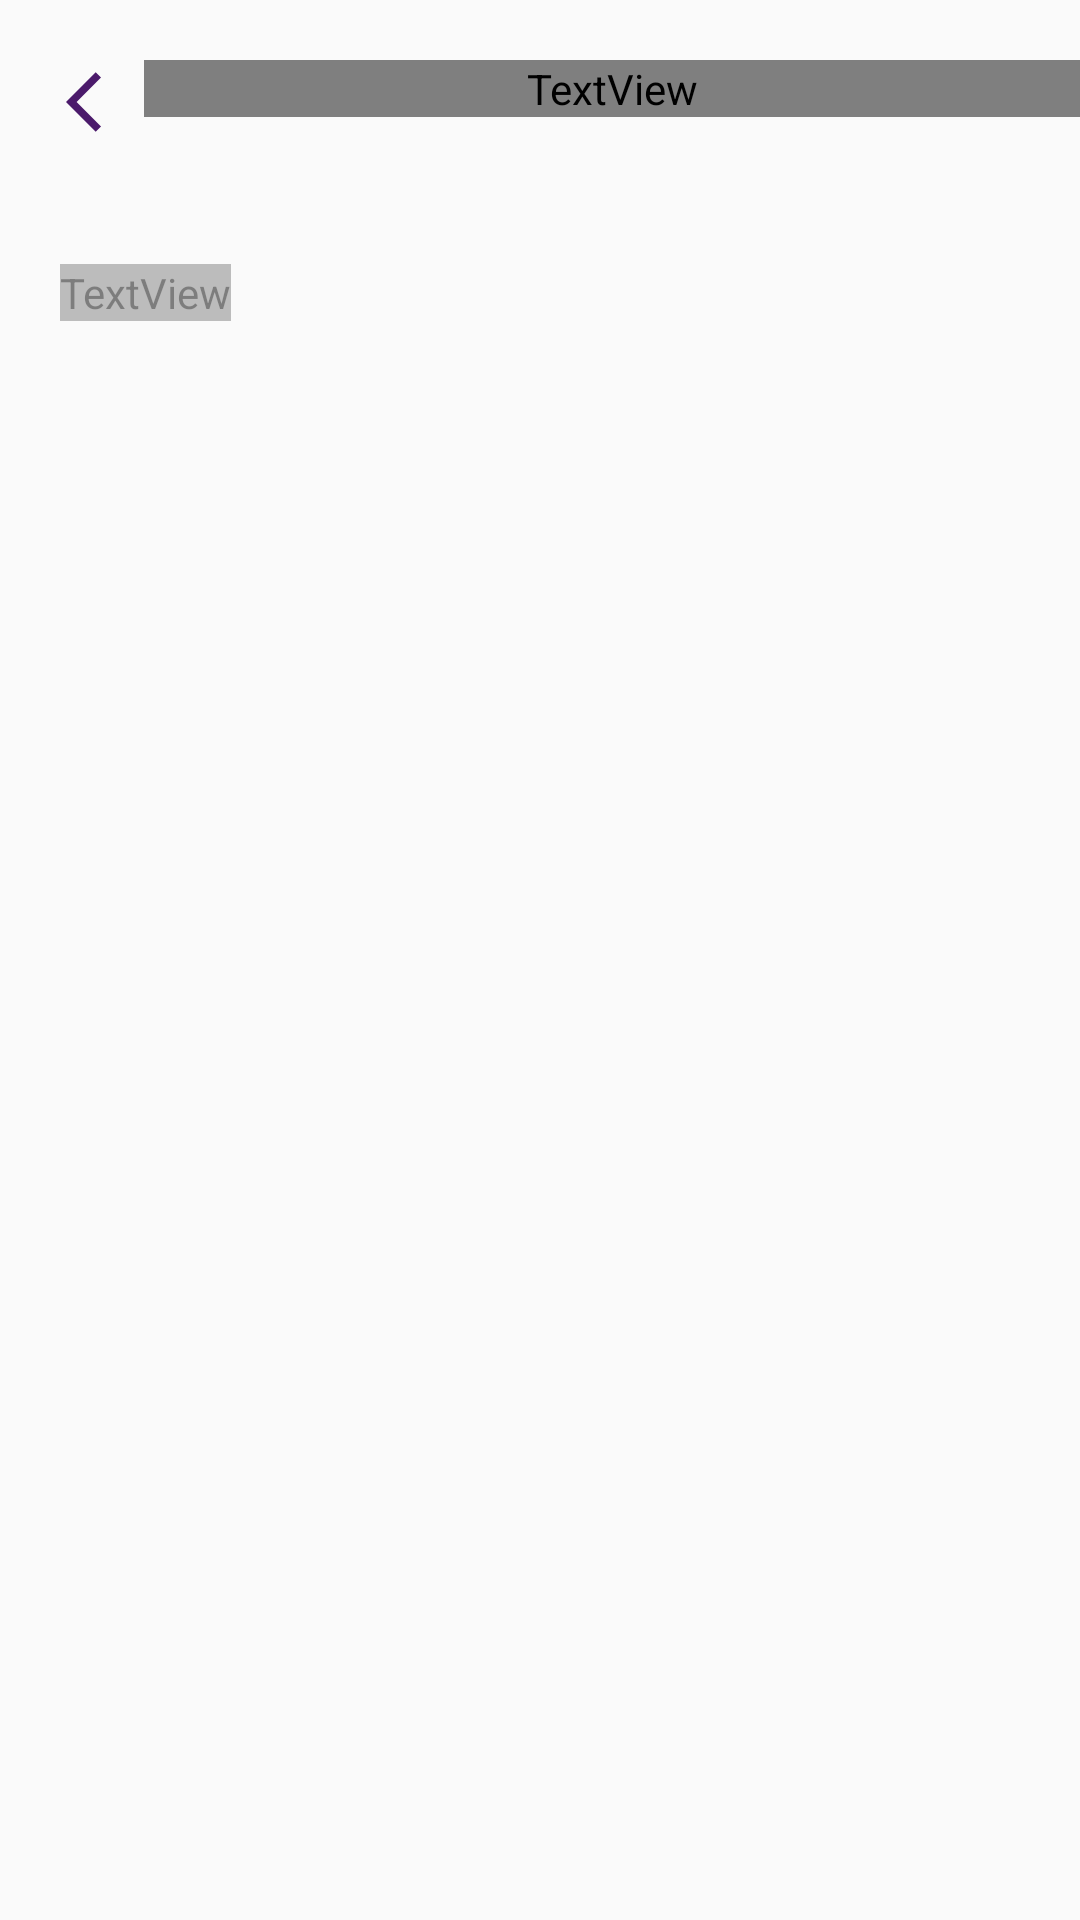

Icon click points for this 1080×1920 phone screenshot, format (x,y):
back arrow: (83,102)
